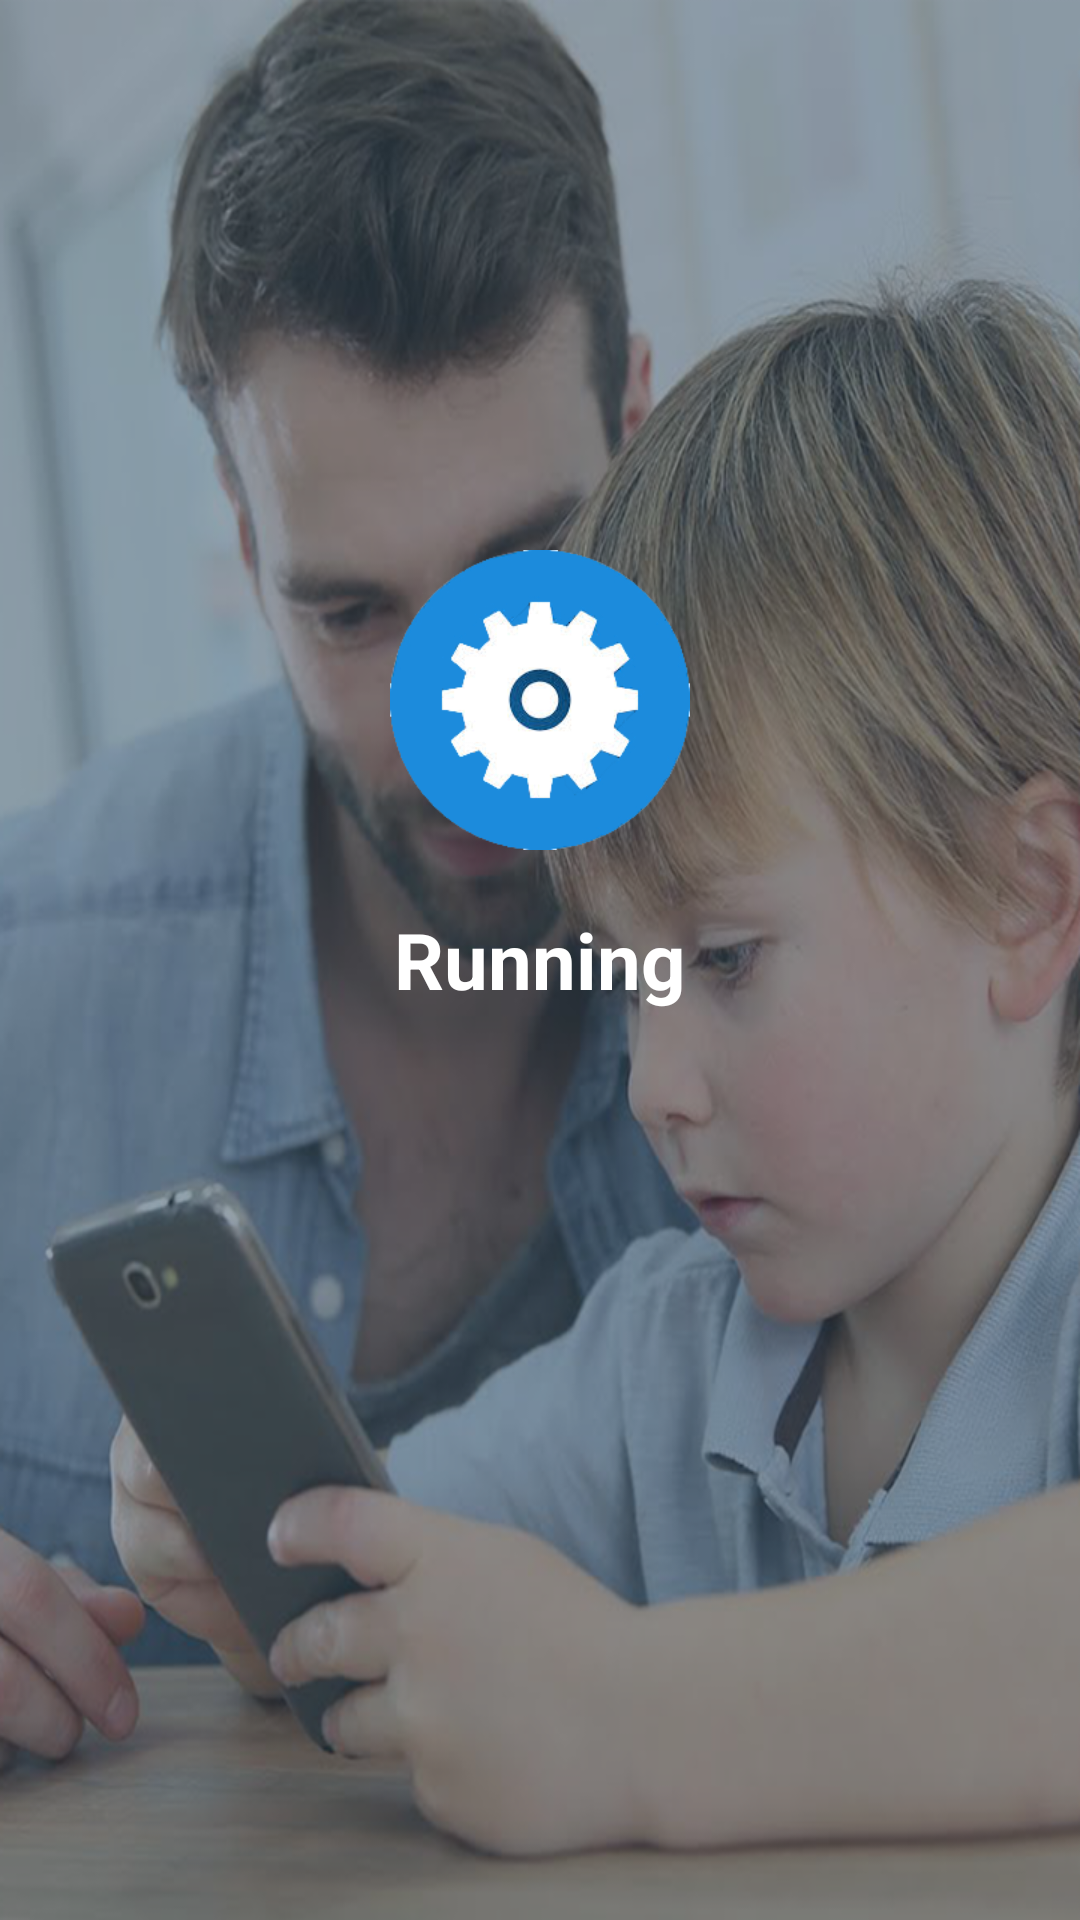

Icon click points for this 1080 × 1920 phone screenshot, format (x,y):
setting: (540,700)
